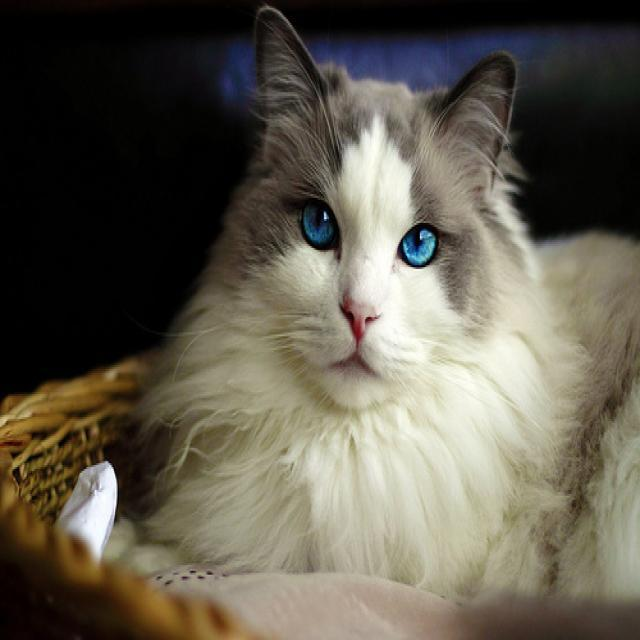Ragdoll: (252, 2, 515, 407)
